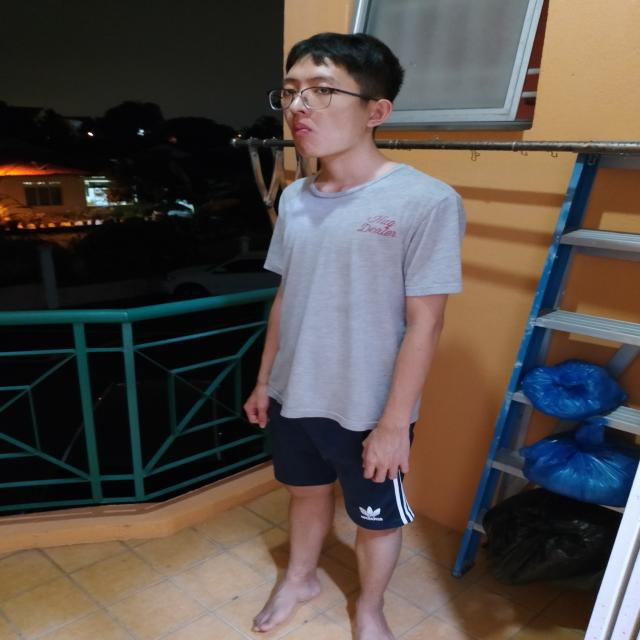person_without_labcoat: (245, 33, 464, 639)
